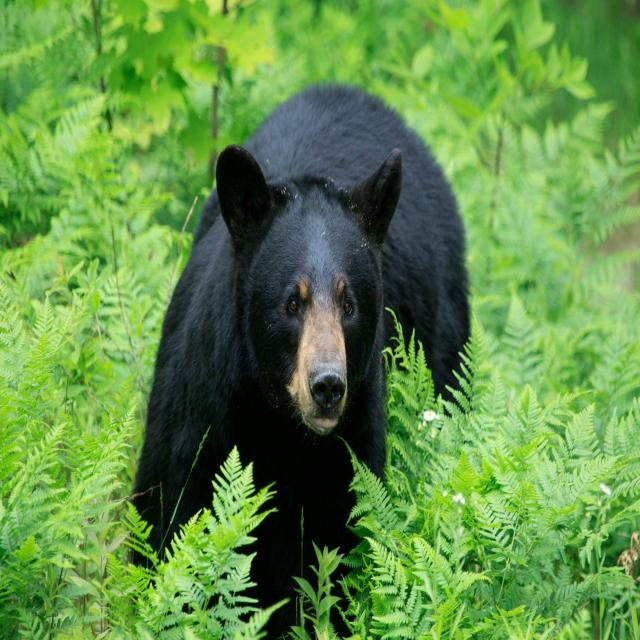Bear: (130, 84, 475, 640)
